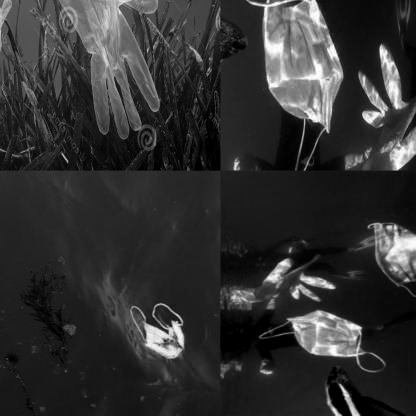Mask: (232, 0, 334, 170), (252, 310, 389, 372), (364, 216, 416, 298), (124, 303, 194, 360)
glove: (36, 0, 162, 141), (352, 34, 416, 170), (226, 252, 334, 304)
